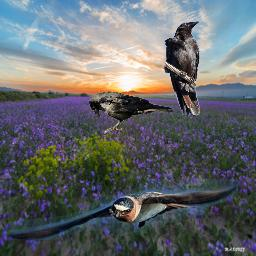Crow: (89, 91, 174, 134), (164, 20, 200, 116)
Swallow: (5, 179, 238, 240)
